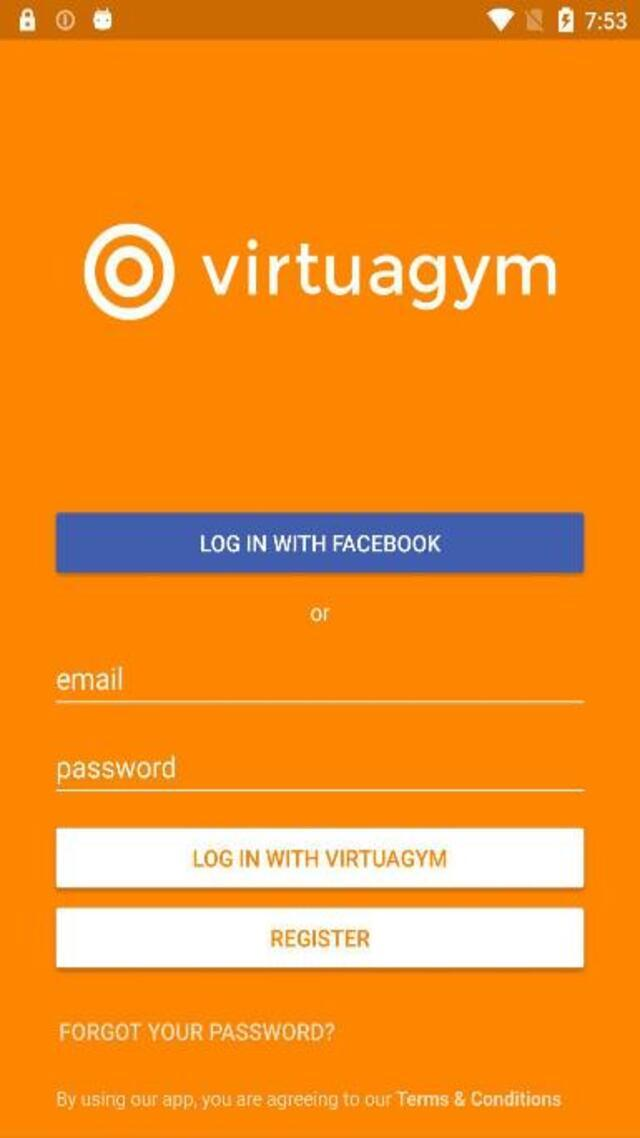Icon: (79, 222, 176, 323)
Image: (84, 222, 175, 322)
Text: (202, 238, 556, 310), (56, 1090, 562, 1111), (180, 841, 453, 871), (195, 529, 446, 556), (61, 1022, 335, 1040), (58, 755, 176, 785), (265, 927, 380, 948), (58, 666, 122, 689), (310, 606, 332, 621)
TextButton: (57, 827, 586, 887), (55, 907, 582, 967), (55, 512, 582, 572)
